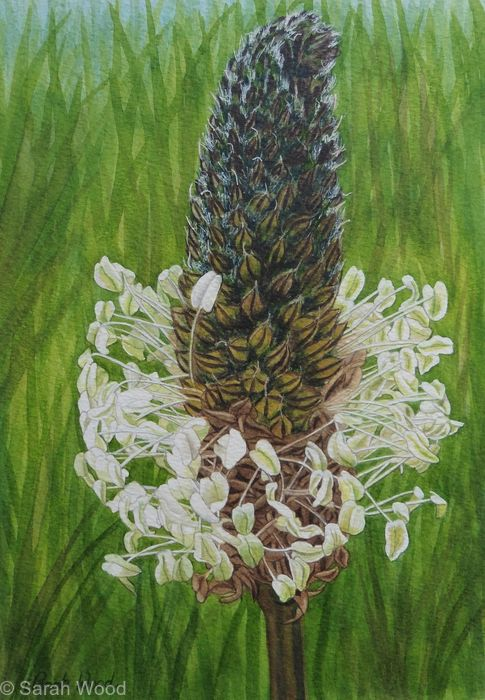buckhorn plantain: (64, 7, 446, 700)
